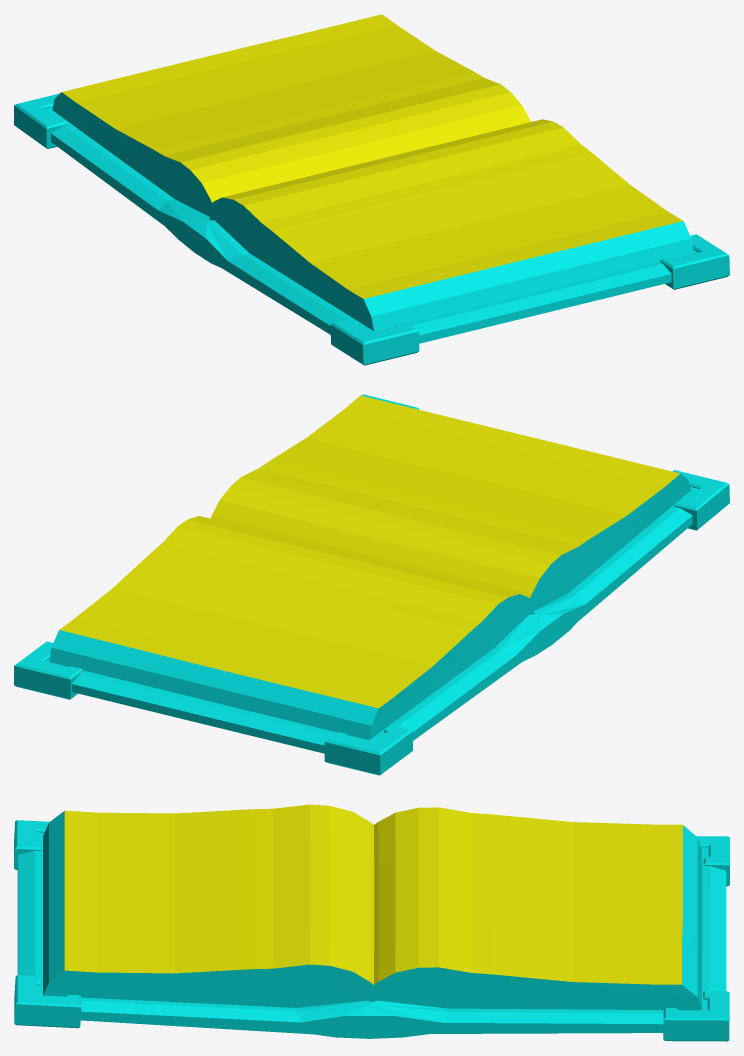
The model's file is Open_Book.fbx.
3 renders of one model, top to bottom at view 1: azimuth 30°, elevation 25°; view 2: azimuth 150°, elevation 25°; view 3: azimuth 270°, elevation 25°, orthographic. The views are drawn at different scales.
Parts seen in each view (by area): view 1: pCube499; view 2: pCube499; view 3: pCube499.
Boxes of the visible parts, <box> form: pCube499: <box>14,14,729,365</box>; pCube499: <box>14,394,729,775</box>; pCube499: <box>14,804,729,1041</box>.
Size of the model in its own units: 42.42 by 7.76 by 70.07.
